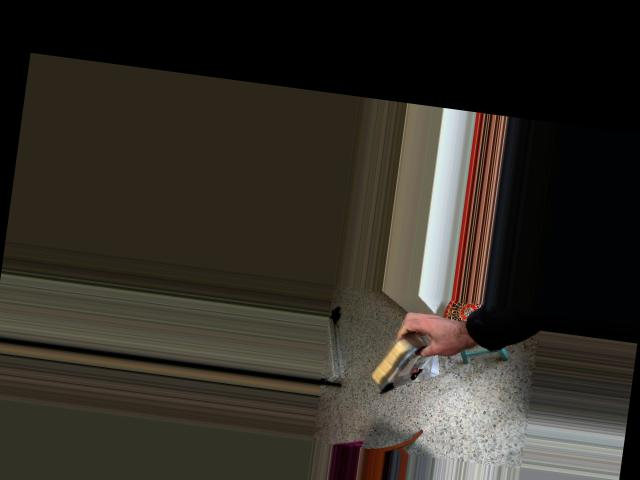cheese: (354, 296, 453, 414)
